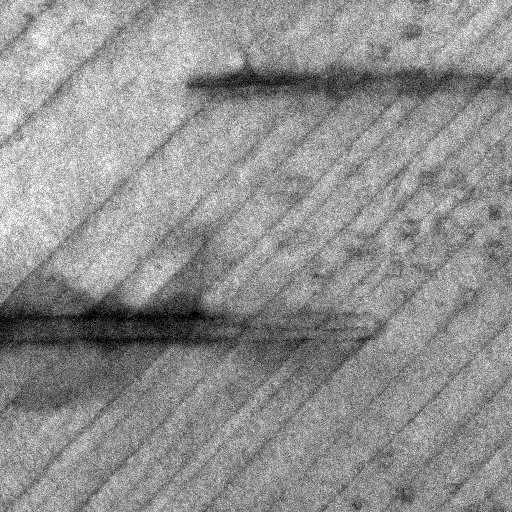5: (150, 215, 232, 263), (343, 231, 387, 264), (450, 279, 482, 315), (303, 253, 336, 286), (385, 479, 422, 506), (218, 248, 249, 277), (337, 156, 369, 183), (371, 444, 399, 474), (395, 280, 426, 307), (412, 165, 442, 191), (394, 214, 420, 243), (435, 307, 460, 335), (362, 41, 395, 62), (440, 476, 466, 502), (301, 280, 332, 300), (494, 169, 512, 202), (344, 491, 369, 512), (450, 498, 485, 512), (433, 297, 448, 312)
a-axis: (0, 306, 383, 350), (178, 61, 511, 101)
y2o3: (395, 20, 426, 45), (14, 6, 42, 29), (481, 235, 507, 251), (485, 203, 504, 224)
y2o3_orange: (427, 185, 487, 250), (245, 162, 316, 210), (407, 232, 452, 281), (269, 225, 323, 261), (442, 163, 471, 194), (380, 249, 407, 281), (29, 0, 62, 14)
